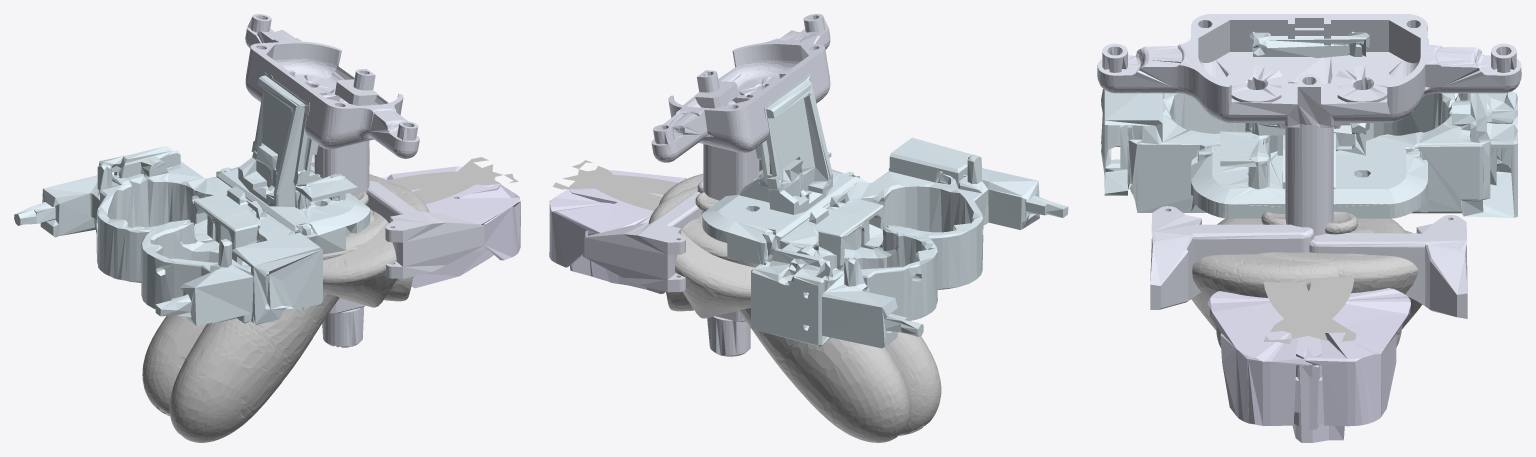
File: pack.glb
3 renders of one model, left to right at view 1: azimuth 30°, elevation 25°; view 2: azimuth 150°, elevation 25°; view 3: azimuth 270°, elevation 25°, orthographic. The views are drawn at different scales.
Parts seen in each view (by area): view 1: left_base_link, right_base_link, left_hand_root, right_controller_link, left_controller_link, left_left_nail, left_link_right_finger, left_link_connector_right, left_link_connector_left, left_link_left_finger; view 2: left_base_link, right_base_link, left_hand_root, left_controller_link, right_controller_link, left_right_nail, left_link_left_finger, left_link_connector_right, left_link_right_finger, left_link_connector_left; view 3: left_hand_root, left_base_link, right_base_link, left_link_right_finger, left_link_left_finger, left_left_nail, left_right_nail, left_controller_link, right_controller_link, left_link_connector_right, left_link_connector_left.
Boxes of the visible parts, x1,y1,x2,y2 form: left_base_link: [14, 72, 369, 282]; right_base_link: [140, 74, 370, 326]; left_hand_root: [245, 14, 419, 347]; right_controller_link: [169, 174, 396, 442]; left_controller_link: [142, 181, 429, 416]; left_left_nail: [366, 181, 484, 278]; left_link_right_finger: [411, 184, 520, 288]; left_link_connector_right: [413, 157, 493, 204]; left_link_connector_left: [386, 171, 518, 190]; left_link_left_finger: [380, 166, 500, 249]; left_base_link: [702, 74, 937, 348]; right_base_link: [702, 73, 1068, 289]; left_hand_root: [651, 14, 830, 356]; left_controller_link: [659, 174, 910, 442]; right_controller_link: [648, 186, 941, 435]; left_right_nail: [584, 192, 702, 292]; left_link_left_finger: [549, 188, 653, 267]; left_link_connector_right: [553, 174, 677, 195]; left_link_right_finger: [569, 170, 686, 293]; left_link_connector_left: [572, 160, 662, 210]; left_hand_root: [1097, 14, 1521, 235]; left_base_link: [1191, 36, 1517, 218]; right_base_link: [1101, 31, 1427, 218]; left_link_right_finger: [1207, 291, 1344, 442]; left_link_left_finger: [1294, 288, 1410, 429]; left_left_nail: [1150, 206, 1314, 309]; left_right_nail: [1309, 215, 1467, 318]; left_controller_link: [1191, 211, 1405, 348]; right_controller_link: [1217, 212, 1422, 347]; left_link_connector_right: [1263, 281, 1356, 341]; left_link_connector_left: [1263, 276, 1353, 343].
Size of the model in its own units: 0.181 by 0.137 by 0.12.
